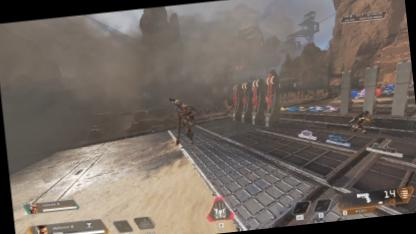Target: (173, 95, 201, 145)
